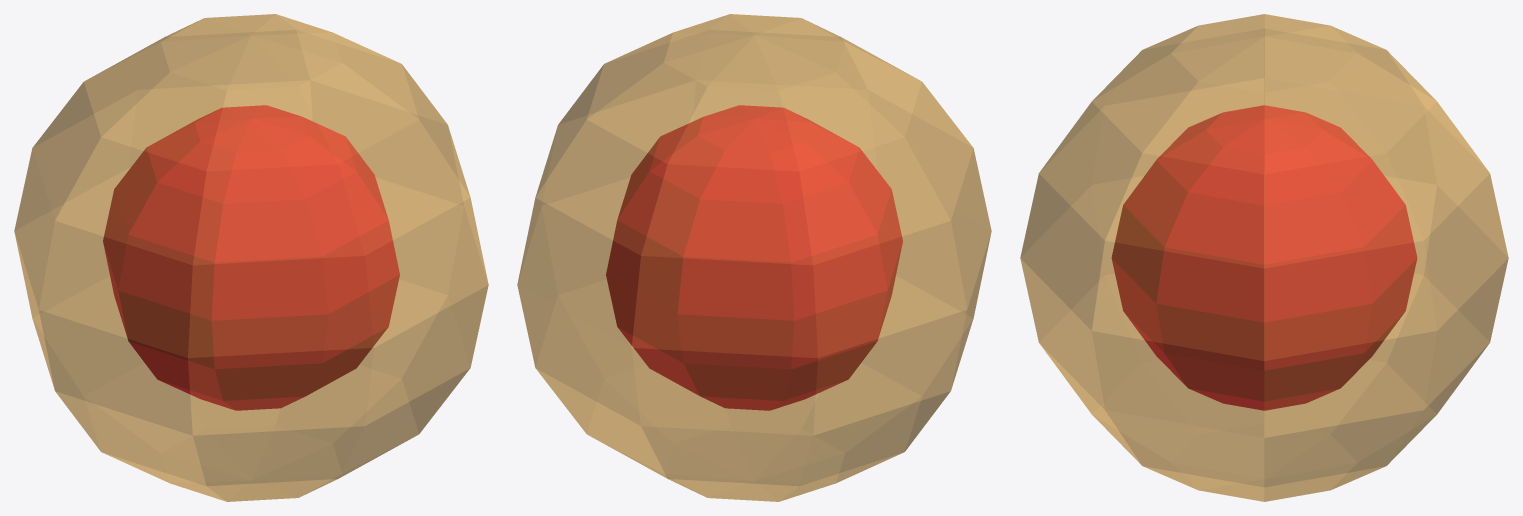
Rendered from Floating Blob.fbx.
3 renders of one model, left to right at view 1: azimuth 30°, elevation 25°; view 2: azimuth 150°, elevation 25°; view 3: azimuth 270°, elevation 25°, orthographic.
Parts seen in each view (by area): view 1: Sphere; view 2: Sphere; view 3: Sphere.
Boxes of the visible parts, x1,y1,x2,y2 form: Sphere: (14, 14, 488, 501); Sphere: (517, 14, 991, 501); Sphere: (1020, 14, 1508, 501).
Size of the model in its own units: 200 by 200 by 200.
